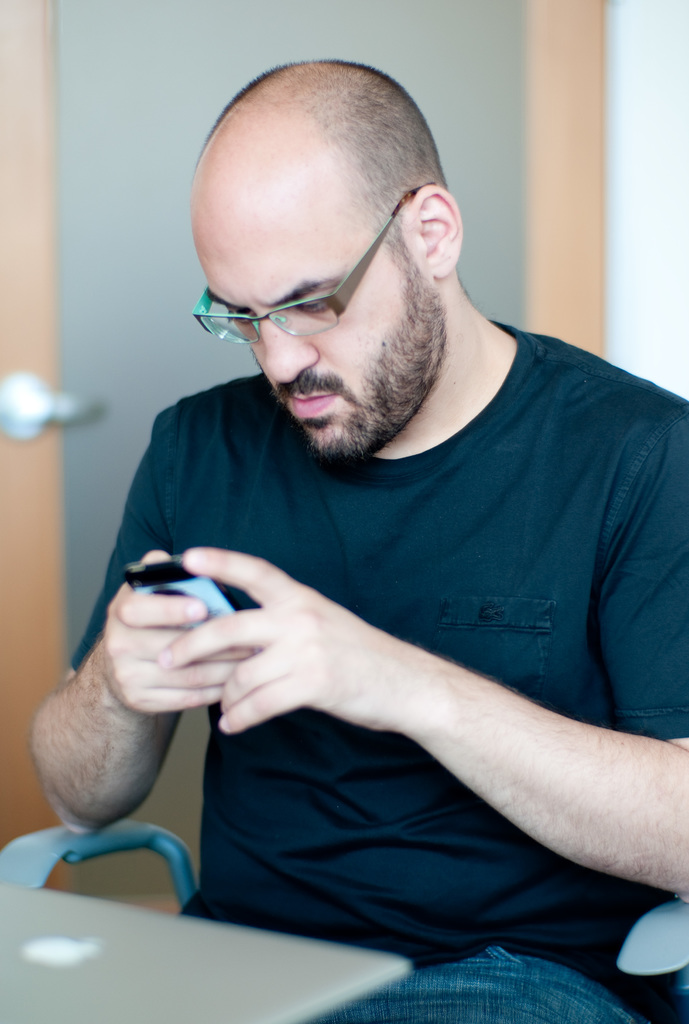Human_hand: (157, 548, 398, 732), (103, 548, 250, 716)
